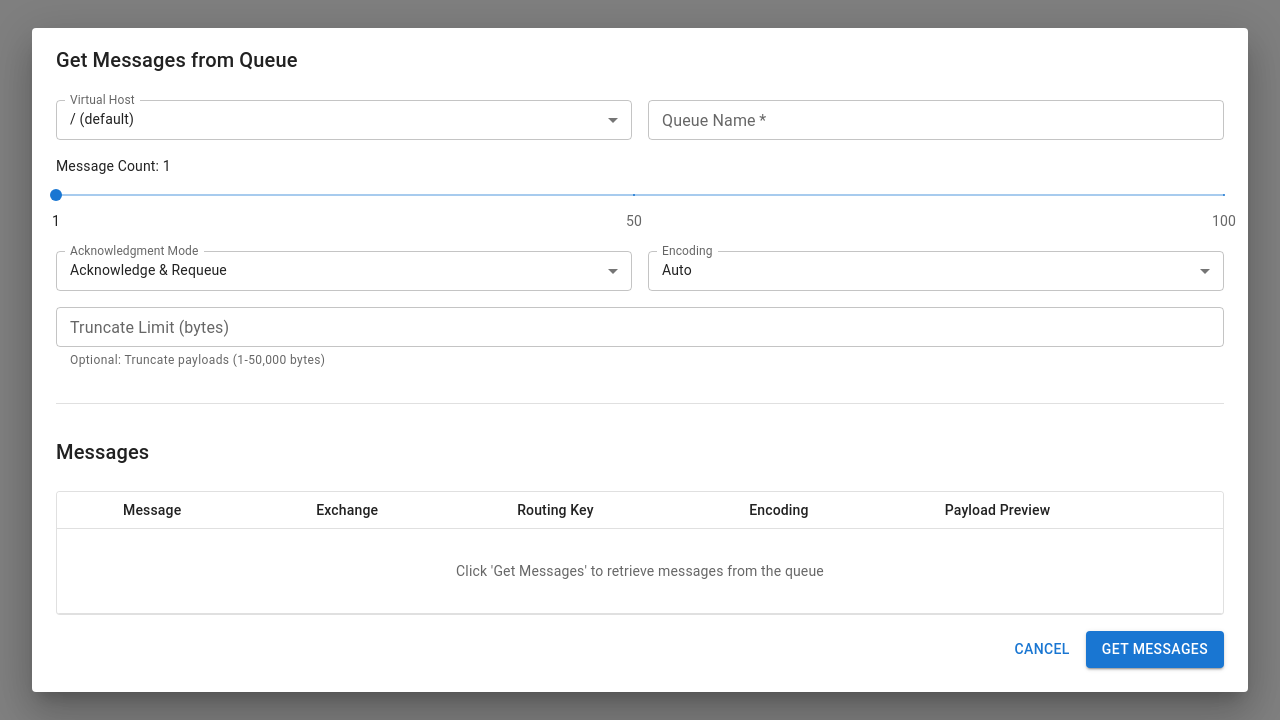
it: GetMessagesDialog › populates form with virtual hosts
Find the virtual host select - it's the first combobox in the form
Click the dropdown labelled "/ (default)" at (102, 119), box [70, 111, 134, 127]
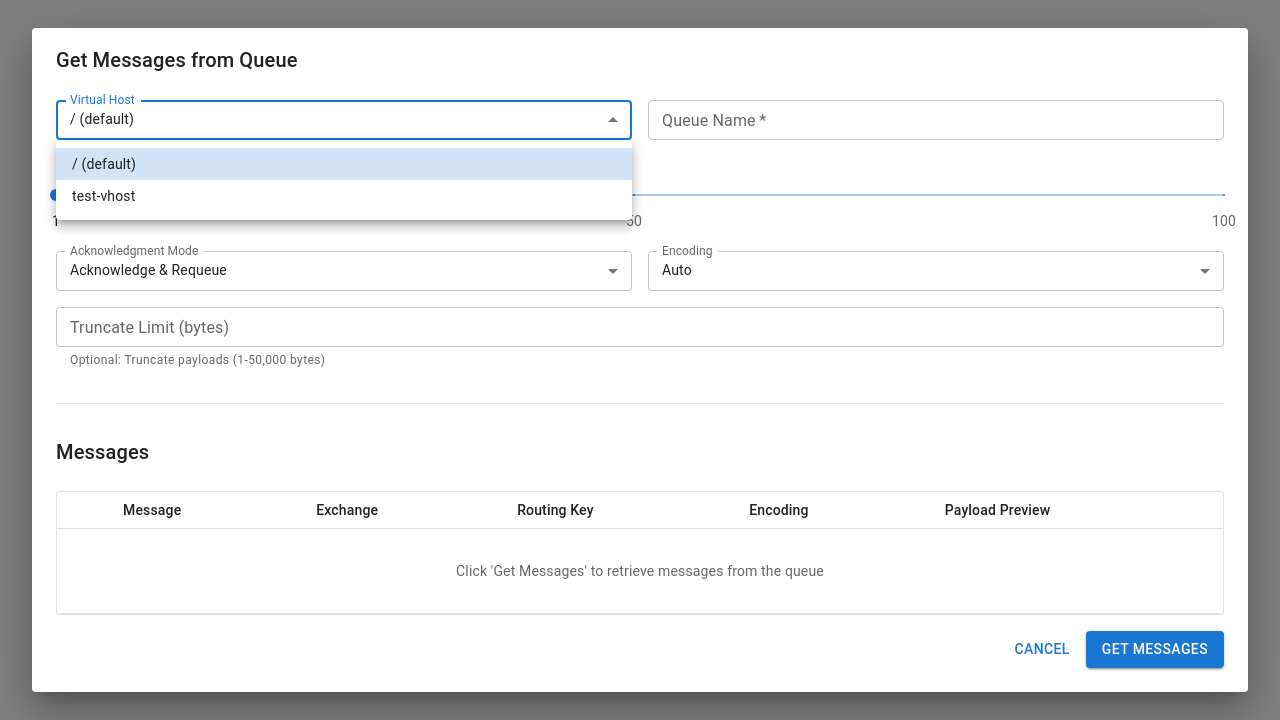
Expected: the list is shown, [56, 140, 632, 220]
Expected: the text "/ (default)" is shown 2 times, [70, 111, 134, 127]; [72, 154, 136, 174]
Expected: the text "test-vhost" is shown, [72, 186, 136, 206]
